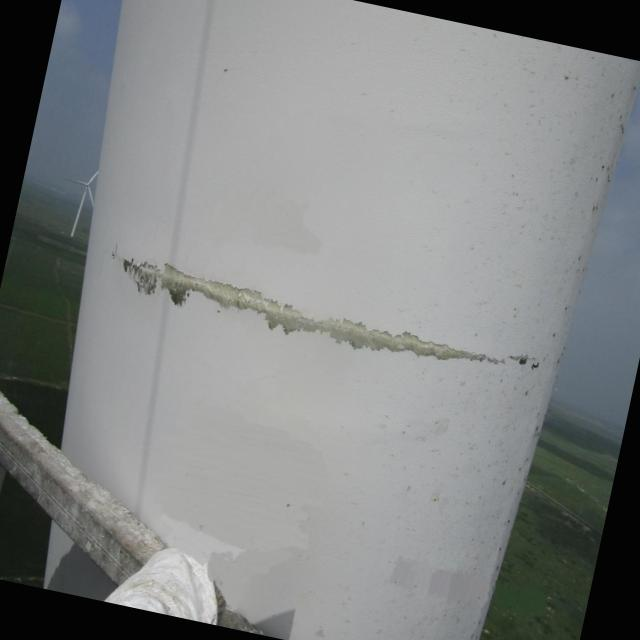surface_peeling: (110, 249, 507, 384)
